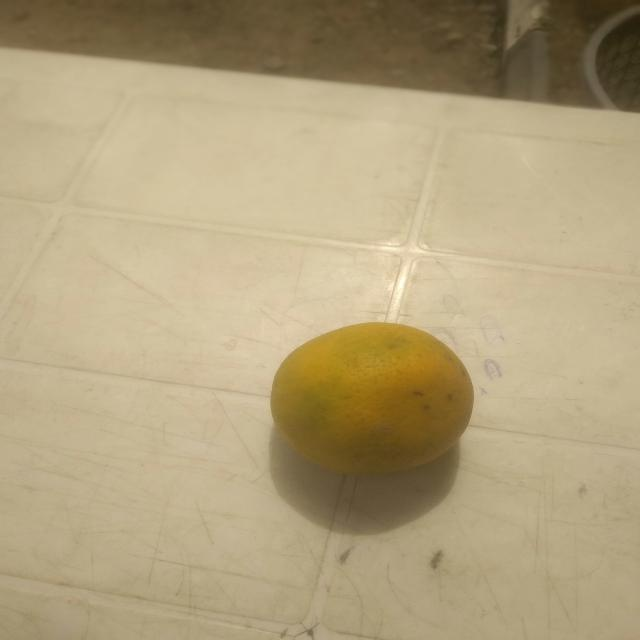agrume: (270, 302, 478, 500)
